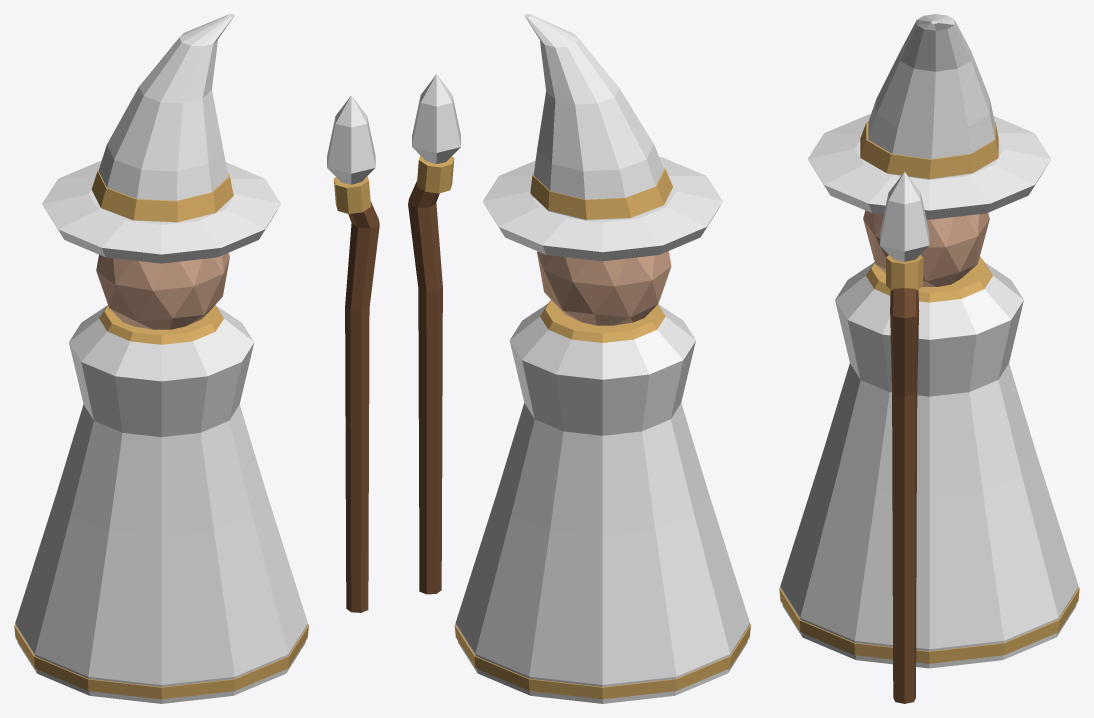
File: LowPoly_Wizard_White_Faceless.fbx
3 views of the same model, side by side, from view 1: azimuth 30°, elevation 25°; view 2: azimuth 150°, elevation 25°; view 3: azimuth 270°, elevation 25° (orthographic).
Parts seen in each view (by area): view 1: Body_Robe, Hat_Separate, Staff_Separate, Head, Robe_Hem, Robe_Collar; view 2: Body_Robe, Hat_Separate, Staff_Separate, Head, Robe_Hem, Robe_Collar; view 3: Body_Robe, Hat_Separate, Staff_Separate, Head, Robe_Hem, Robe_Collar.
Part boxes in pixels (x1,y1,x2,y2): Body_Robe: (15, 306, 307, 703); Hat_Separate: (42, 14, 280, 263); Staff_Separate: (327, 95, 379, 612); Head: (96, 253, 229, 329); Robe_Hem: (14, 624, 308, 699); Robe_Collar: (99, 305, 223, 344); Body_Robe: (455, 304, 749, 703); Hat_Separate: (482, 14, 722, 261); Staff_Separate: (408, 74, 460, 594); Head: (537, 251, 671, 325); Robe_Hem: (454, 624, 750, 699); Robe_Collar: (540, 300, 665, 342); Body_Robe: (780, 263, 1078, 668); Hat_Separate: (808, 14, 1050, 219); Staff_Separate: (880, 171, 929, 703); Head: (863, 210, 989, 286); Robe_Hem: (779, 587, 1079, 663); Robe_Collar: (866, 256, 992, 302).
Bounding box in the file's own units: 157 × 275 × 121.
